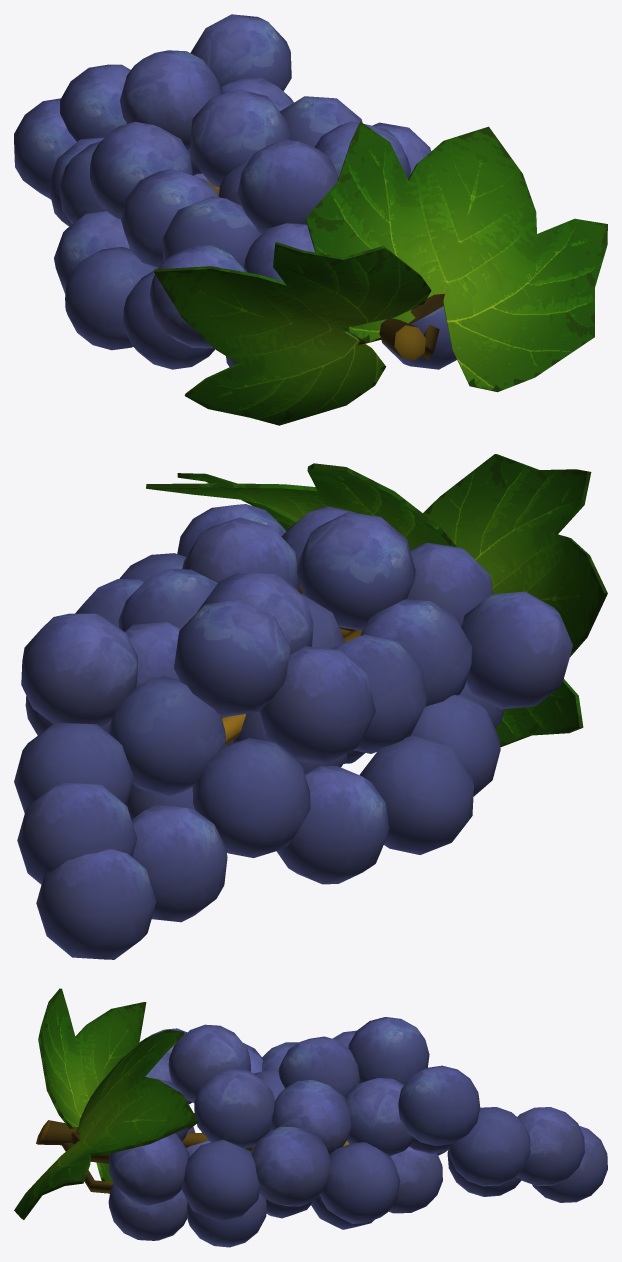
The model's file is Grapes_Concord.fbx.
3 renders of one model, top to bottom at view 1: azimuth 30°, elevation 25°; view 2: azimuth 150°, elevation 25°; view 3: azimuth 270°, elevation 25°, orthographic. The views are drawn at different scales.
Visible parts, largest first — view 1: Grapes_Concord; view 2: Grapes_Concord; view 3: Grapes_Concord.
Boxes of the visible parts, x1,y1,x2,y2 form: Grapes_Concord: (14,14,607,425); Grapes_Concord: (14,454,607,959); Grapes_Concord: (14,988,607,1247).
Size of the model in its own units: 46.73 by 26.88 by 73.42.
